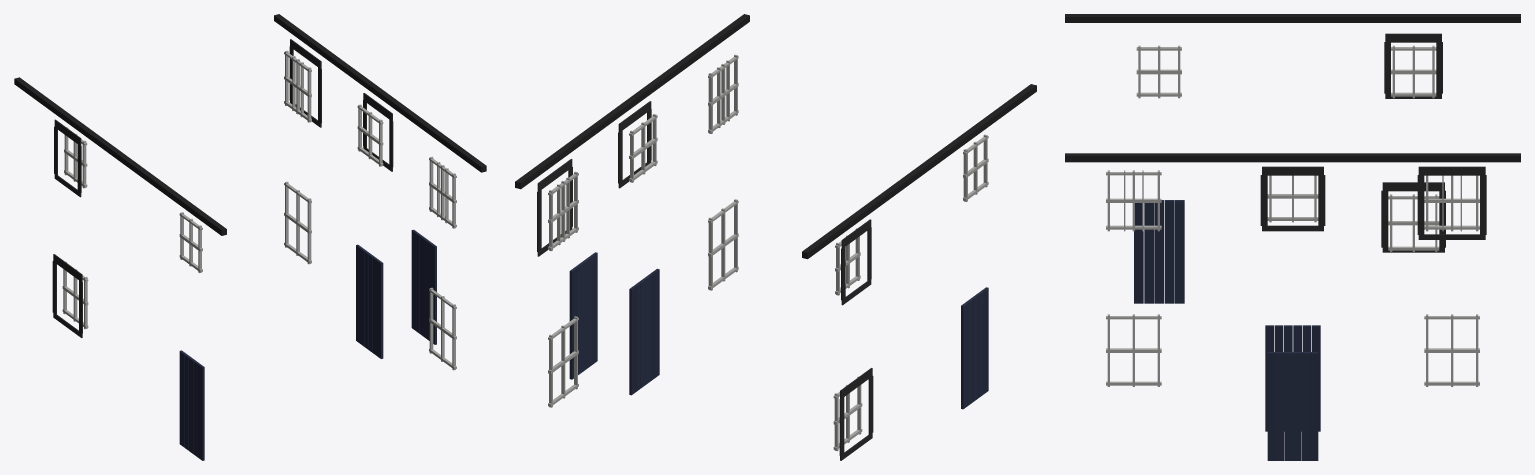
File: SM_Bld_088_Wood.glb
3 renders of one model, left to right at view 1: azimuth 30°, elevation 25°; view 2: azimuth 150°, elevation 25°; view 3: azimuth 270°, elevation 25°, orthographic. The views are drawn at different scales.
Visible parts, largest first — view 1: SM_Bld_088_Wood; view 2: SM_Bld_088_Wood; view 3: SM_Bld_088_Wood.
Part boxes in pixels (x1,y1,x2,y2): SM_Bld_088_Wood: (14,14,486,460); SM_Bld_088_Wood: (515,14,1036,460); SM_Bld_088_Wood: (1065,14,1520,460).
Size of the model in its own units: 6.9 by 5.5 by 8.06.
